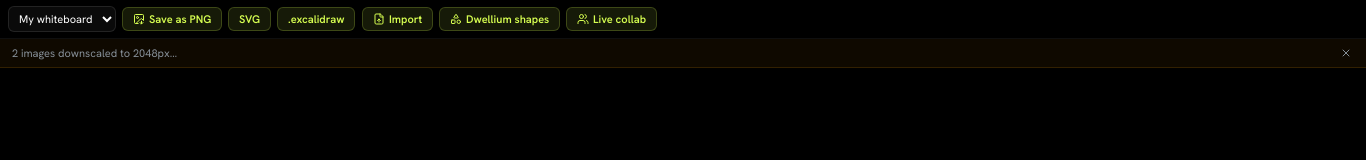
Test: notices (plan 053 #2) › renders a dismissible banner when the store pushes a notice
This screenshot has width=1366, height=160.
Check: the message shows "2 images downscaled", box [12,46,177,60]
Click the button named "Dismiss notice": (1346, 53) [1338,45,1354,61]
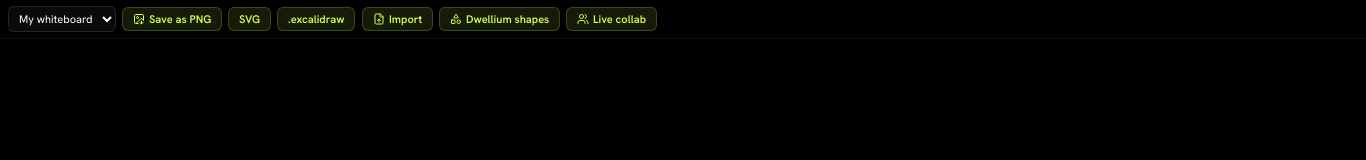
Check: the message "2 images downscaled to 2048px…" is gone
